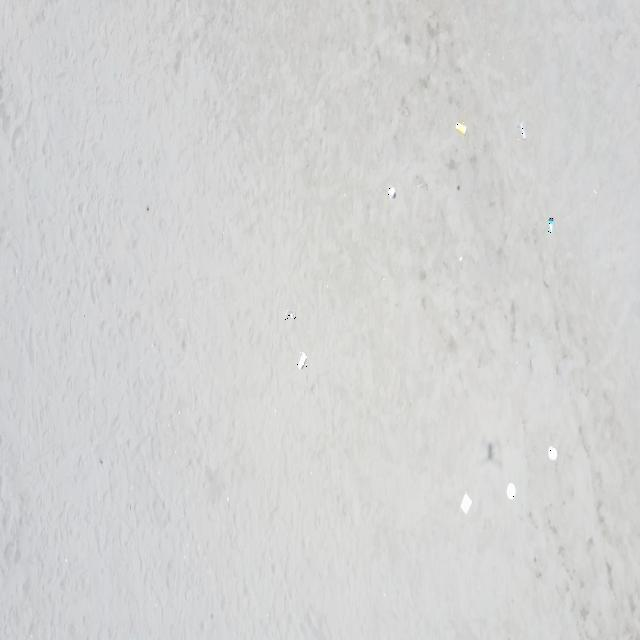take-away-containers: (460, 492, 473, 514), (506, 482, 516, 500), (548, 445, 557, 462)
takeaway-cup: (518, 120, 527, 141), (296, 352, 306, 370), (455, 122, 467, 135), (284, 309, 296, 320), (388, 186, 396, 199), (548, 217, 554, 234)
